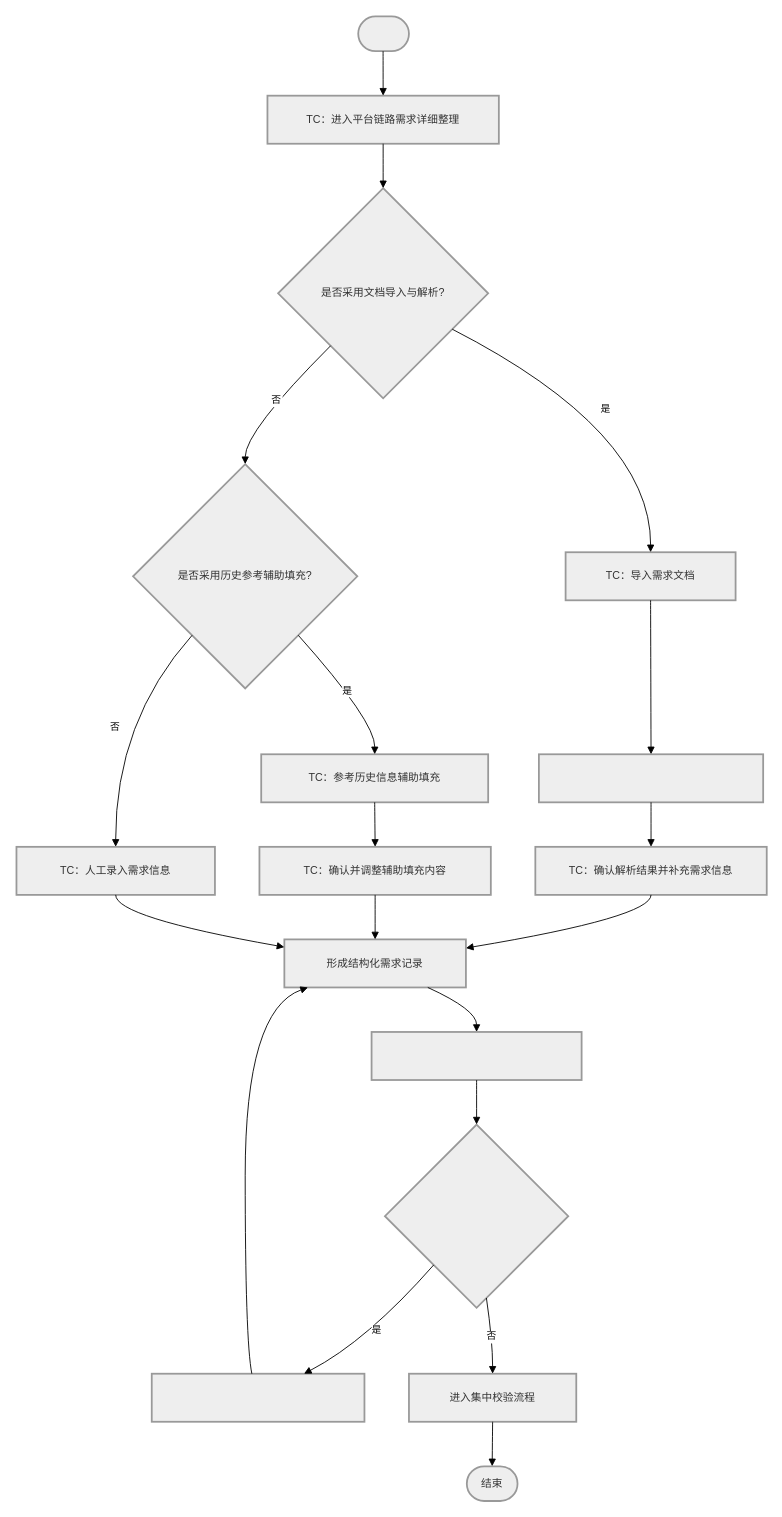
Image size: 782x1517. Some labels were removed from this diagram. The box of each missing label's shape, as (x1, y1, x2, y2) in pixels:
TC：补充或修改需求信息: (150, 1372, 365, 1422)
开始: (357, 15, 409, 52)
是否仍需补充 / 修改?: (384, 1123, 569, 1308)
系统：录入过程即时提示: (370, 1031, 582, 1080)
系统：执行文档导入与解析: (538, 753, 764, 803)
